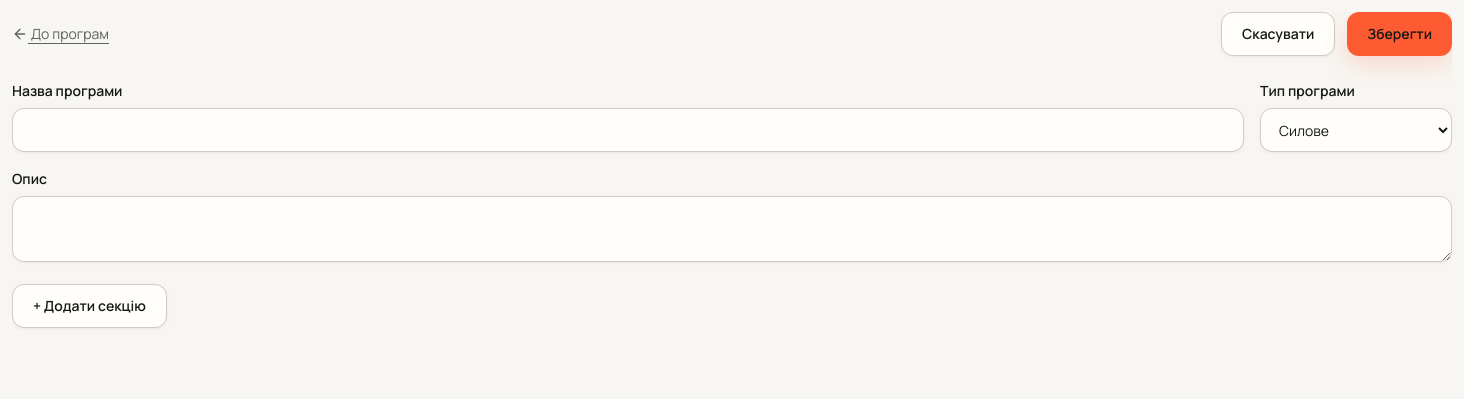
Test: ProgramBuilder › save › surfaces an API 400 message as the form error
The image size is (1464, 399).
In the field labelled "Назва програми": (628,130) [12,108,1244,152], type "Відхилено сервером"
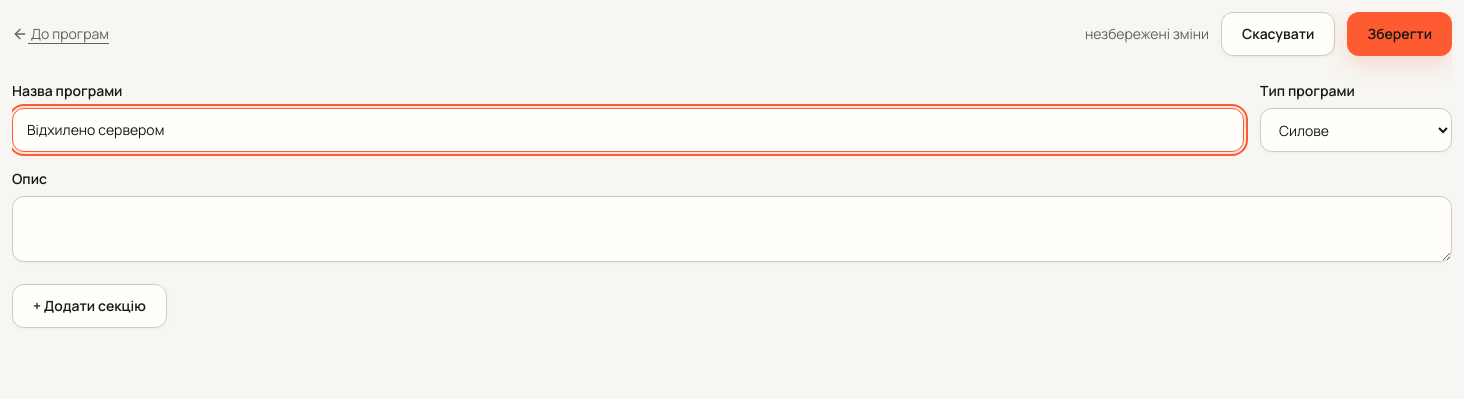
Click the button "Зберегти": (1400,34) [1347,12,1452,56]
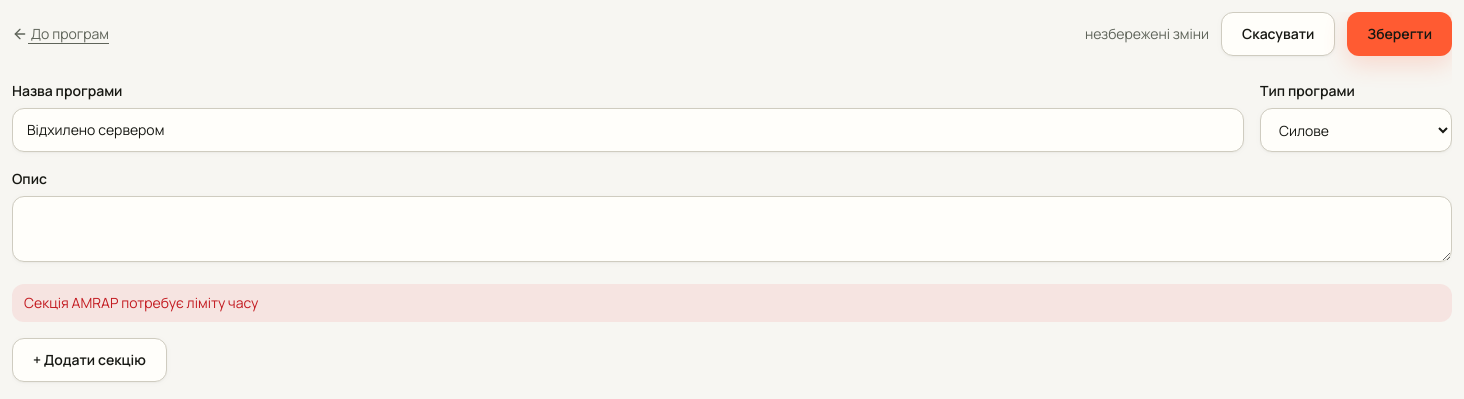
Now the message reads "Секція AMRAP потребує ліміту часу", box [24,293,258,312]
